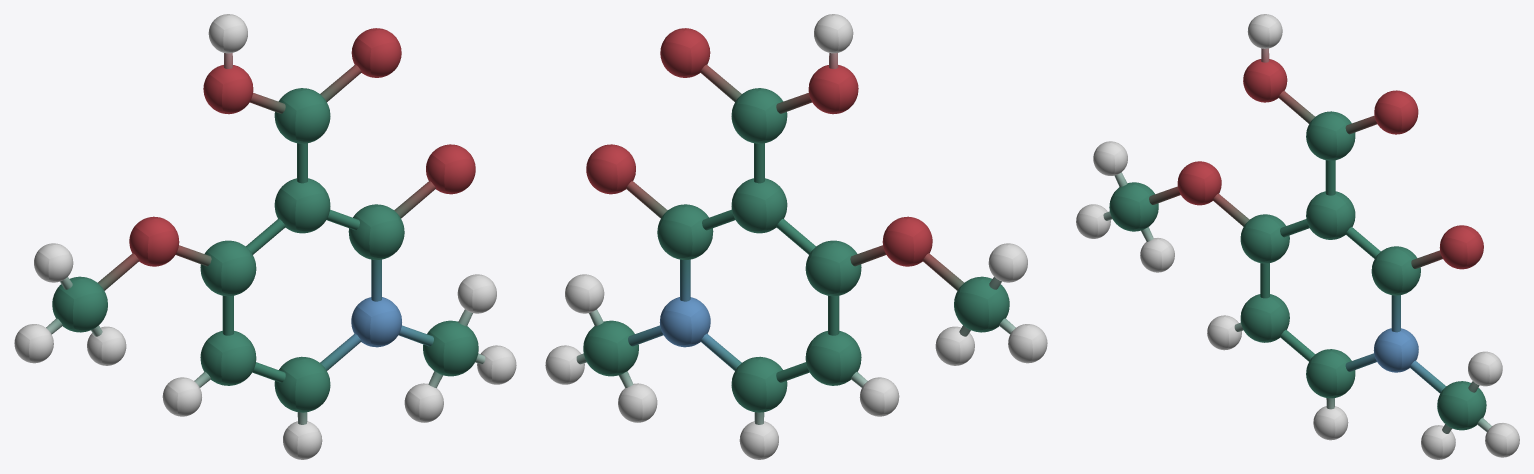
File: 3-carboxy-4-methoxy-N-methyl-2-pyridone.fbx
3 views of the same model, side by side, from view 1: azimuth 30°, elevation 25°; view 2: azimuth 150°, elevation 25°; view 3: azimuth 330°, elevation 25° (orthographic). The views are drawn at different scales.
Visible parts, largest first — view 1: curMeshHyperballExportedMesh; view 2: curMeshHyperballExportedMesh; view 3: curMeshHyperballExportedMesh.
Part boxes in pixels (left/top/right/bottom): curMeshHyperballExportedMesh: left=14, top=14, right=516, bottom=459; curMeshHyperballExportedMesh: left=545, top=14, right=1047, bottom=459; curMeshHyperballExportedMesh: left=1076, top=14, right=1519, bottom=459.
Size of the model in its own units: 5.8 by 5.14 by 0.5667.
